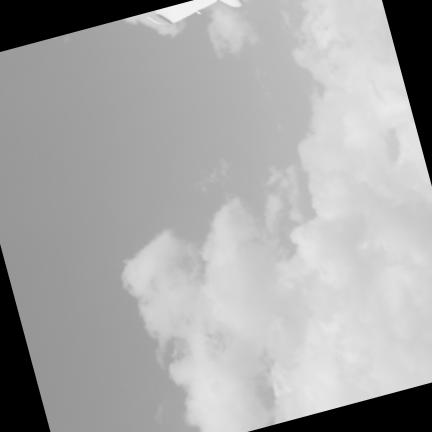Shahed: (147, 0, 214, 23)
